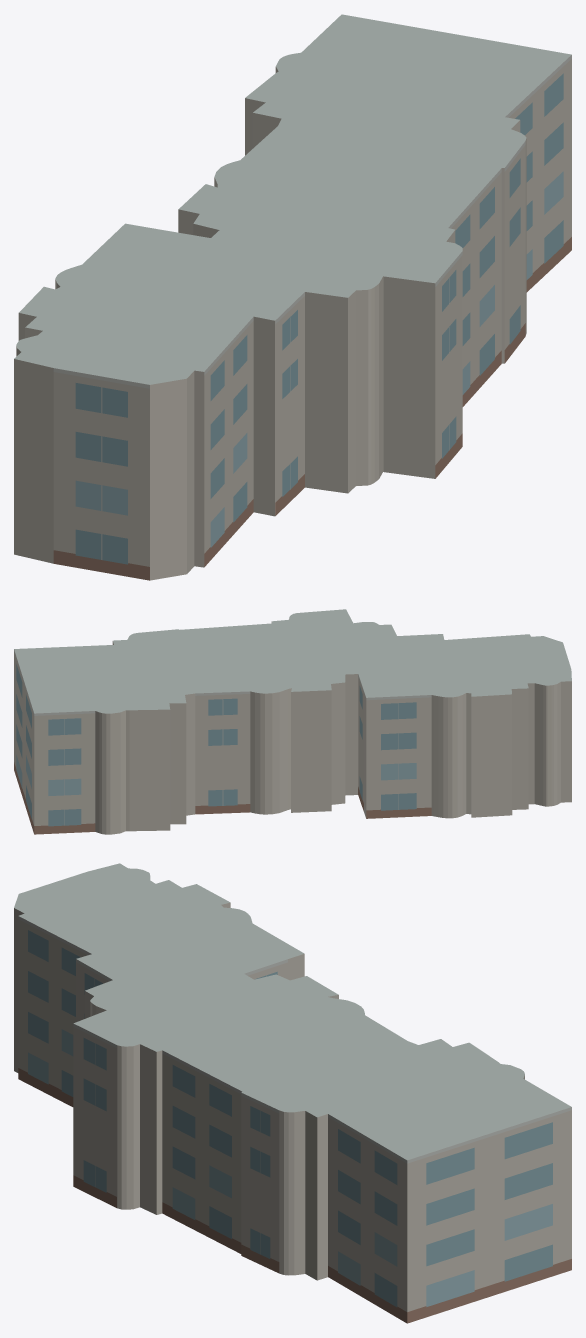
File: survey-upis-32470384.glb
3 renders of one model, top to bottom at view 1: azimuth 30°, elevation 25°; view 2: azimuth 150°, elevation 25°; view 3: azimuth 270°, elevation 25°, orthographic. The views are drawn at different scales.
Visible parts, largest first — view 1: survey-upis-32470384.tmp; view 2: survey-upis-32470384.tmp; view 3: survey-upis-32470384.tmp.
Boxes of the visible parts, x1,y1,x2,y2 form: survey-upis-32470384.tmp: (14, 14, 571, 580); survey-upis-32470384.tmp: (14, 609, 571, 834); survey-upis-32470384.tmp: (14, 863, 571, 1323).
Size of the model in its own units: 47.65 by 12.2 by 37.81.
